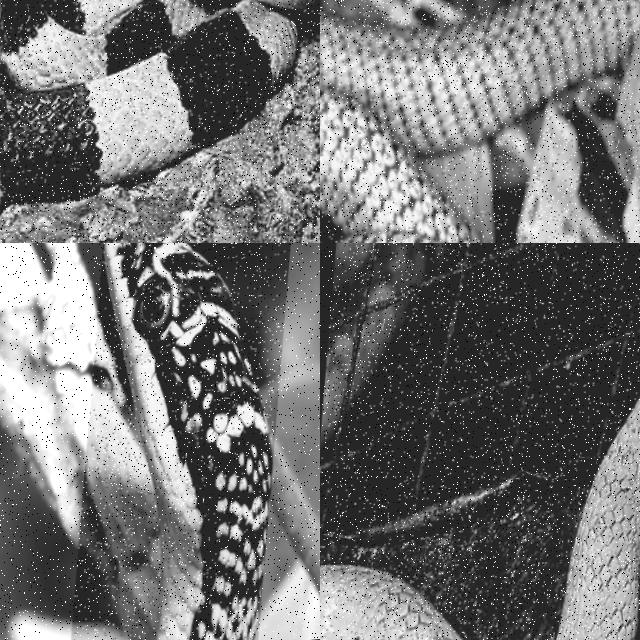Bungarus fasciatus: (0, 0, 319, 206)
Chrysopelea ornata: (320, 0, 639, 242), (105, 243, 272, 639)
Trimeresurus macrops: (557, 400, 639, 639)
snake: (320, 0, 639, 242), (105, 243, 272, 639), (0, 0, 319, 206), (557, 400, 639, 639)
